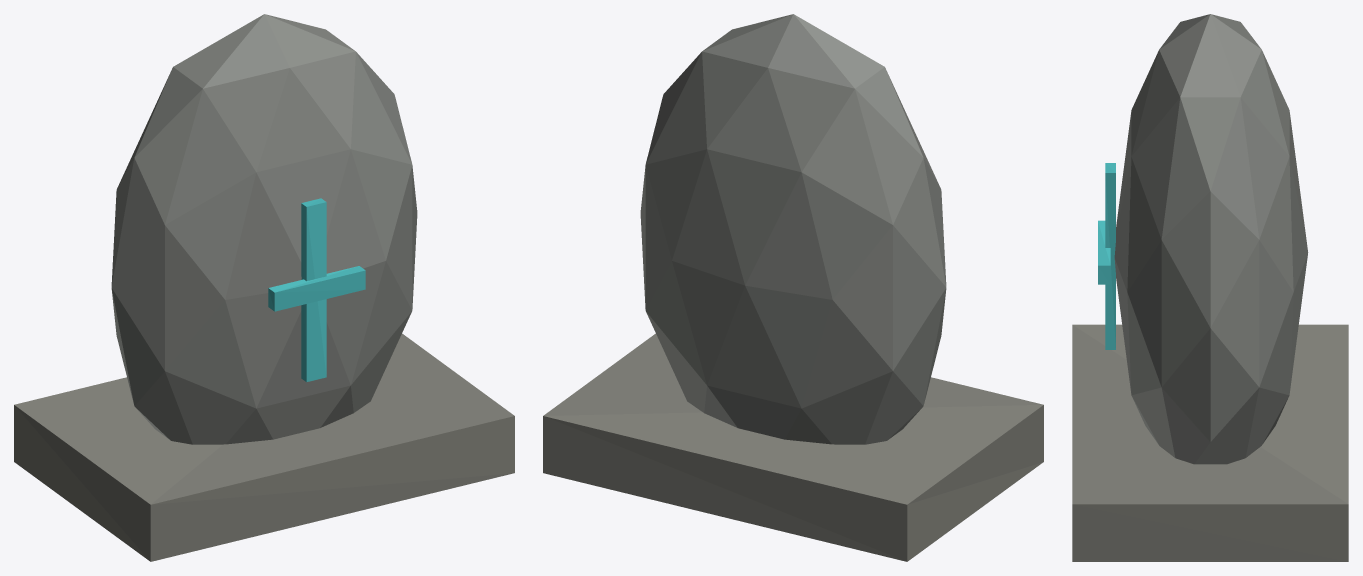
The model's file is rune_stone.glb.
3 views of the same model, side by side, from view 1: azimuth 30°, elevation 25°; view 2: azimuth 150°, elevation 25°; view 3: azimuth 270°, elevation 25° (orthographic).
Parts seen in each view (by area): view 1: stone, base, rune_vertical, rune_horizontal; view 2: stone, base; view 3: stone, base, rune_vertical, rune_horizontal.
Part boxes in pixels (x1,y1,x2,y2): stone: (111,14,417,444); base: (14,333,514,561); rune_vertical: (301,198,326,382); rune_horizontal: (268,266,365,311); stone: (640,14,946,444); base: (543,333,1043,561); stone: (1114,14,1308,464); base: (1072,324,1348,561); rune_vertical: (1105,163,1115,349); rune_horizontal: (1098,220,1110,284).
Size of the model in its own units: 1 by 1.24 by 0.65.
